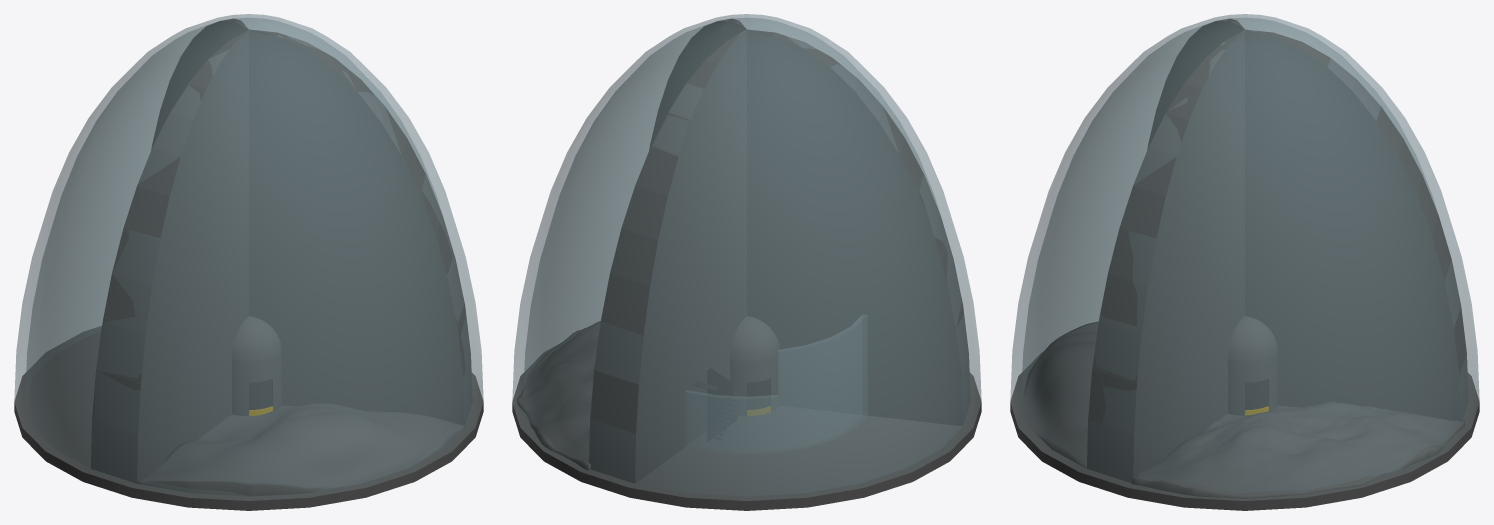
The model's file is TheARK-MK 1.1.fbx.
3 views of the same model, side by side, from view 1: azimuth 30°, elevation 25°; view 2: azimuth 150°, elevation 25°; view 3: azimuth 270°, elevation 25° (orthographic).
Visible parts, largest first — view 1: shipDome, wall3, wall2, snowFloor, shipFloor, centralRoom1, wall1, door2; view 2: shipDome, wall2, wall1, shipFloor, aquariumGlass, rainforestFloor, aquariumFloor, centralRoom1, wall3, stairsMiddle, door1; view 3: shipDome, wall1, wall3, rainforestFloor, shipFloor, snowFloor, centralRoom1, wall2, door.
Boxes of the visible parts, x1,y1,x2,y2 form: shipDome: [14, 14, 483, 500]; wall3: [249, 29, 472, 425]; wall2: [91, 30, 248, 483]; snowFloor: [137, 403, 464, 496]; shipFloor: [14, 326, 483, 510]; centralRoom1: [232, 316, 281, 416]; wall1: [151, 18, 248, 149]; door2: [249, 379, 272, 416]; shipDome: [512, 14, 981, 500]; wall2: [747, 29, 970, 426]; wall1: [589, 30, 746, 483]; shipFloor: [512, 343, 981, 510]; aquariumGlass: [687, 315, 862, 452]; rainforestFloor: [517, 321, 600, 470]; aquariumFloor: [688, 409, 945, 496]; centralRoom1: [730, 316, 779, 415]; wall3: [649, 18, 746, 149]; stairsMiddle: [707, 368, 737, 440]; door1: [747, 379, 770, 415]; shipDome: [1010, 14, 1479, 500]; wall1: [1245, 29, 1468, 420]; wall3: [1087, 30, 1244, 483]; rainforestFloor: [1132, 402, 1464, 498]; shipFloor: [1010, 352, 1479, 510]; snowFloor: [1021, 322, 1098, 468]; centralRoom1: [1228, 316, 1277, 415]; wall2: [1147, 18, 1244, 149]; door: [1245, 379, 1268, 415].
Size of the model in its own units: 3455 by 3126 by 3455.
